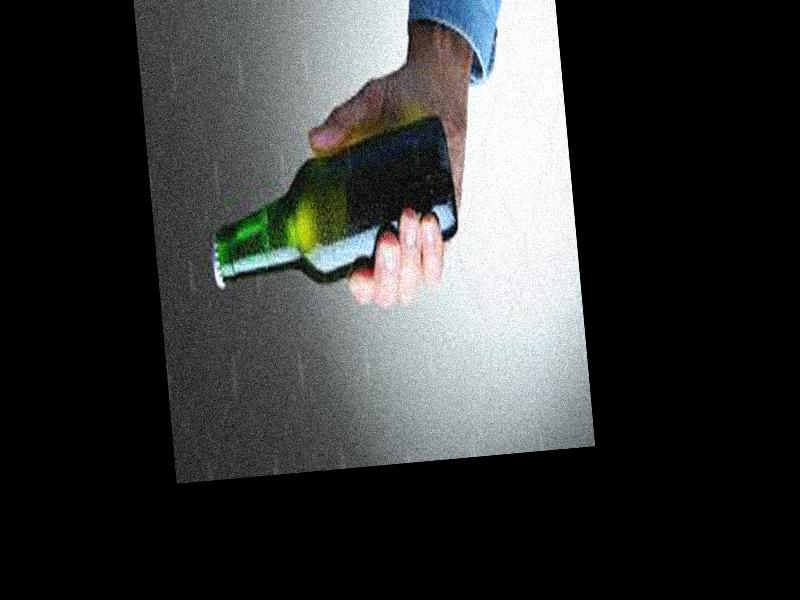Beer: (203, 111, 461, 301)
